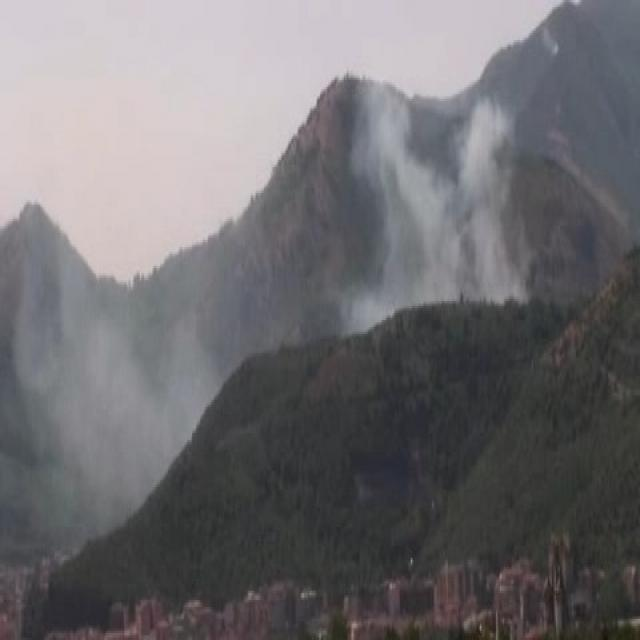smoke: (343, 93, 511, 309), (35, 264, 205, 458)
